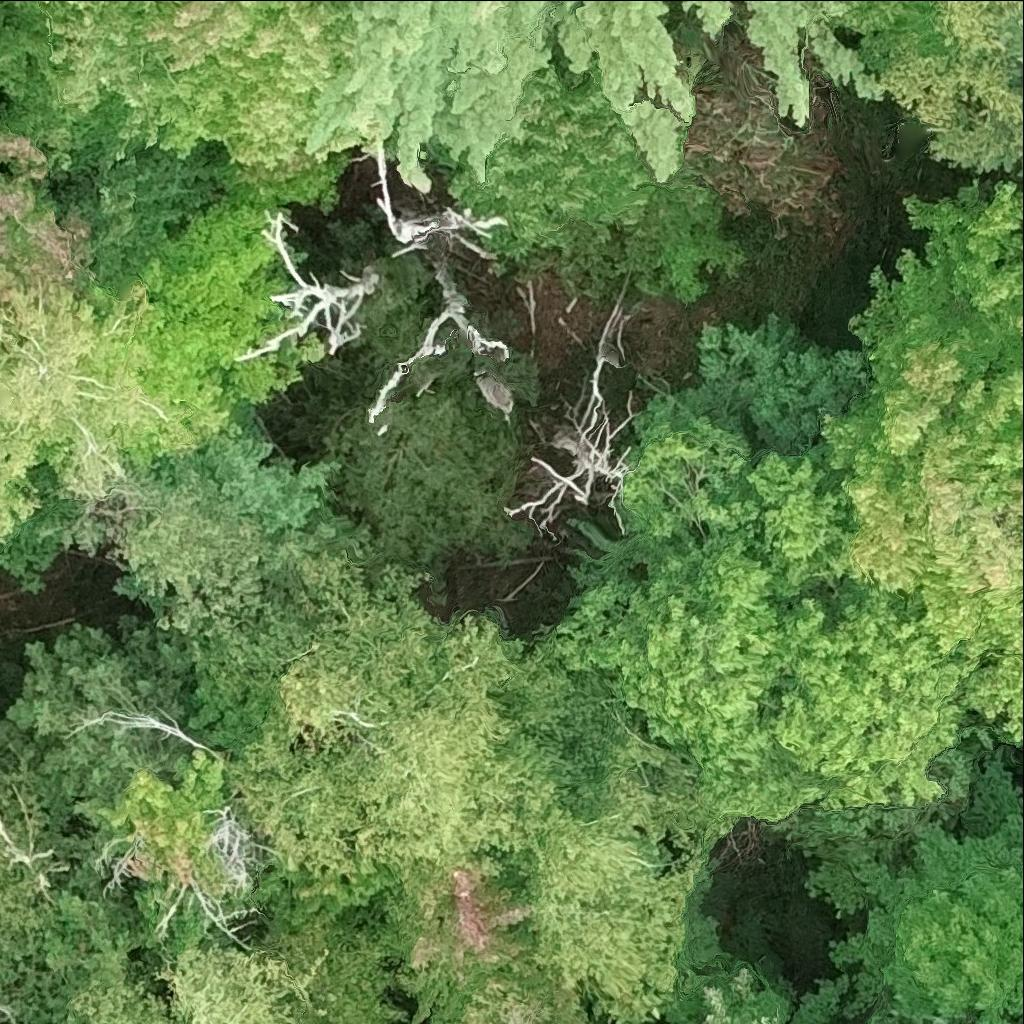crown: (525, 398, 984, 825), (226, 571, 577, 903), (820, 182, 1023, 738), (450, 38, 745, 304), (305, 0, 692, 189), (48, 0, 376, 180), (0, 269, 196, 544), (486, 781, 702, 1023), (144, 150, 345, 401), (370, 859, 589, 1023), (830, 0, 1023, 174), (507, 311, 631, 525), (880, 864, 1023, 1023), (68, 943, 321, 1023), (0, 118, 93, 298), (749, 0, 882, 124), (701, 969, 787, 1023), (461, 978, 546, 1023), (682, 0, 727, 31), (1014, 0, 1023, 54), (37, 0, 65, 15), (927, 1019, 946, 1023), (899, 1022, 903, 1023), (980, 1023, 982, 1023)
